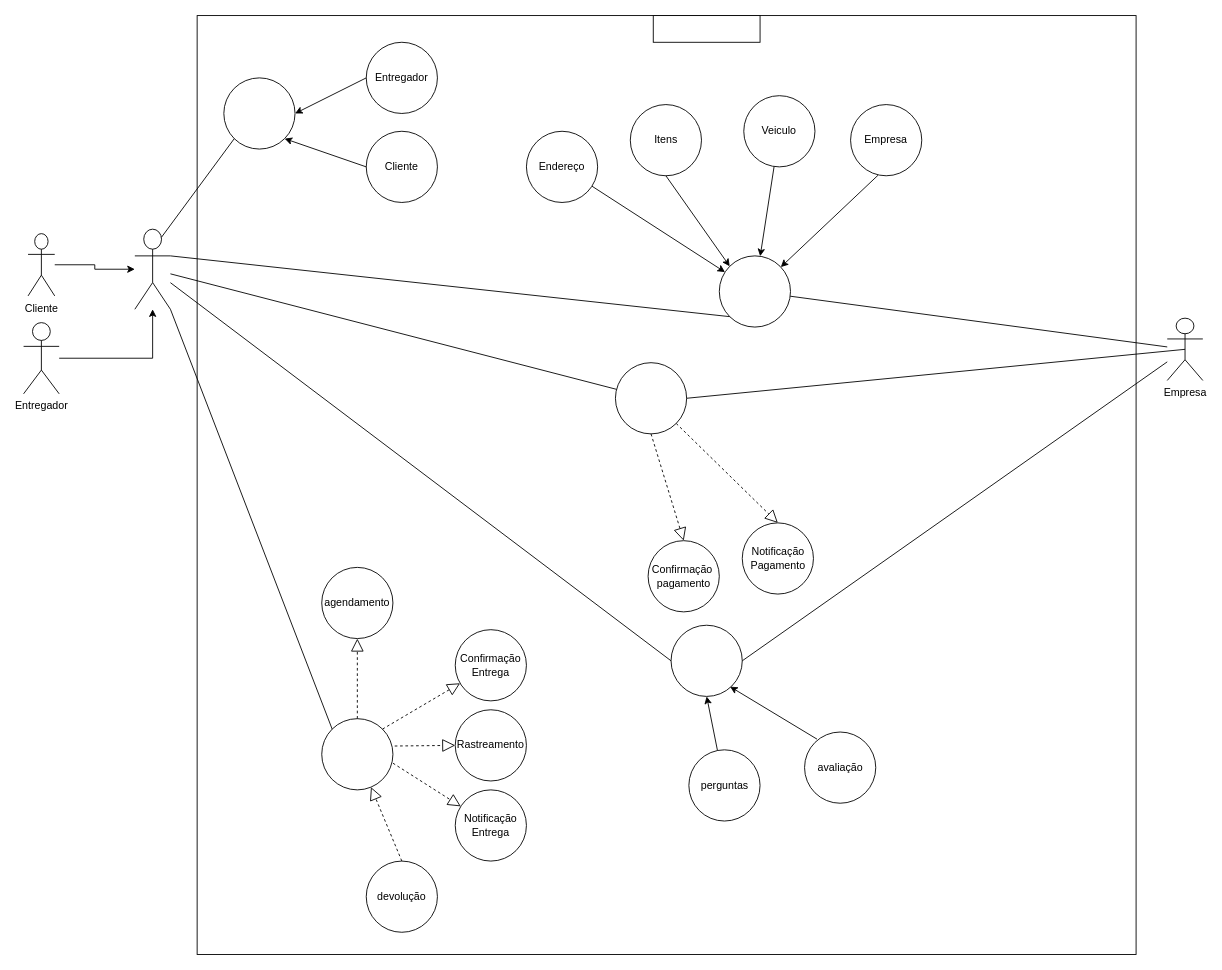
Some shapes in this 1222 by 970 pixel diagram are drawn without their labels. Here are the shapes that lost their labels. From the top down, the box of each, then its label:
(652, 15, 760, 42): Expertlog
(223, 77, 295, 149): Login
(134, 228, 170, 309): Usuario
(718, 255, 790, 327): Cadastro
(615, 362, 687, 434): Sistema Pagamento
(670, 624, 742, 696): interface grafica
(321, 718, 393, 790): Sistema Entrega
